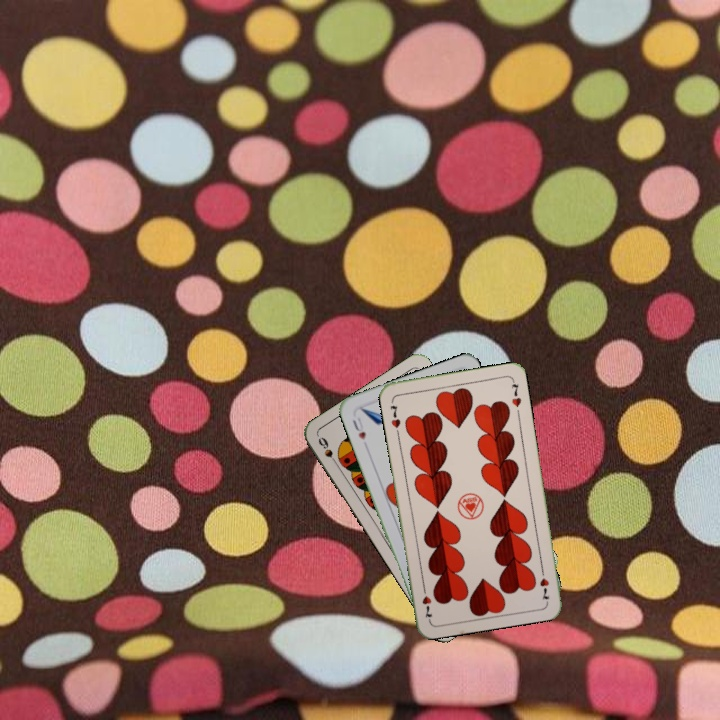H7: (536, 563, 552, 603), (386, 401, 403, 431)
HU: (348, 413, 368, 442)
S9: (314, 433, 341, 469)
